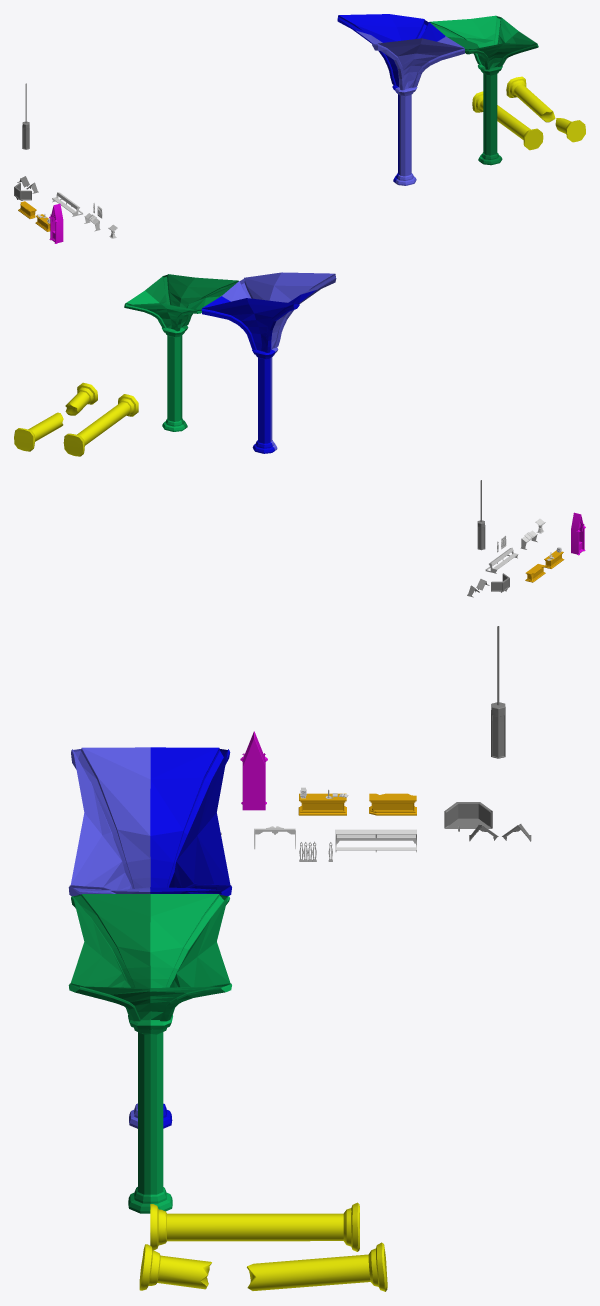
The model's file is Monastary interiour.fbx.
The picture shows the model from 3 angles, top to bottom: view 1: azimuth 30°, elevation 25°; view 2: azimuth 150°, elevation 25°; view 3: azimuth 270°, elevation 25°; orthographic projection. The views are drawn at different scales.
Visible parts, largest first — view 1: polySurface50, polySurface52, polySurface54, polySurface58, polySurface56, polySurface60, Pilar22, polySurface53, polySurface59, polySurface47, polySurface48, Altarcasing; view 2: polySurface52, polySurface50, polySurface53, polySurface60, Pilar22, polySurface58, polySurface59, polySurface54, polySurface56, polySurface47, polySurface48, Altarcasing; view 3: polySurface50, polySurface52, Pilar22, polySurface59, polySurface56, polySurface58, polySurface60, polySurface47, polySurface53, polySurface54, polySurface48, Altarcasing (+5 smaller).
Part boxes in pixels (left/top/right/bottom): polySurface50: left=356, top=30, right=421, bottom=185; polySurface52: left=337, top=14, right=400, bottom=182; polySurface54: left=407, top=36, right=464, bottom=184; polySurface58: left=447, top=37, right=503, bottom=165; polySurface56: left=493, top=31, right=538, bottom=163; polySurface60: left=429, top=19, right=485, bottom=161; Pilar22: left=472, top=91, right=543, bottom=150; polySurface53: left=389, top=14, right=445, bottom=41; polySurface59: left=471, top=15, right=518, bottom=46; polySurface47: left=506, top=76, right=555, bottom=122; polySurface48: left=555, top=118, right=585, bottom=142; Altarcasing: left=51, top=203, right=63, bottom=243; polySurface52: left=247, top=290, right=316, bottom=453; polySurface50: left=269, top=272, right=336, bottom=450; polySurface53: left=201, top=296, right=261, bottom=452; polySurface60: left=161, top=296, right=219, bottom=431; Pilar22: left=63, top=394, right=138, bottom=456; polySurface58: left=179, top=277, right=238, bottom=428; polySurface59: left=124, top=290, right=171, bottom=430; polySurface54: left=222, top=272, right=280, bottom=301; polySurface56: left=145, top=274, right=194, bottom=306; polySurface47: left=14, top=412, right=63, bottom=451; polySurface48: left=65, top=382, right=97, bottom=415; Altarcasing: left=571, top=512, right=583, bottom=554; polySurface50: left=71, top=747, right=150, bottom=1117; polySurface52: left=150, top=747, right=230, bottom=1117; Pilar22: left=150, top=1202, right=359, bottom=1251; polySurface59: left=150, top=942, right=231, bottom=1211; polySurface56: left=68, top=942, right=150, bottom=1213; polySurface58: left=71, top=894, right=150, bottom=1201; polySurface60: left=150, top=894, right=229, bottom=1200; polySurface47: left=247, top=1242, right=387, bottom=1291; polySurface53: left=150, top=813, right=231, bottom=1128; polySurface54: left=68, top=813, right=150, bottom=1128; polySurface48: left=139, top=1244, right=211, bottom=1290; Altarcasing: left=242, top=731, right=265, bottom=810.
Size of the model in its own units: 72.03 by 22.43 by 28.47.
